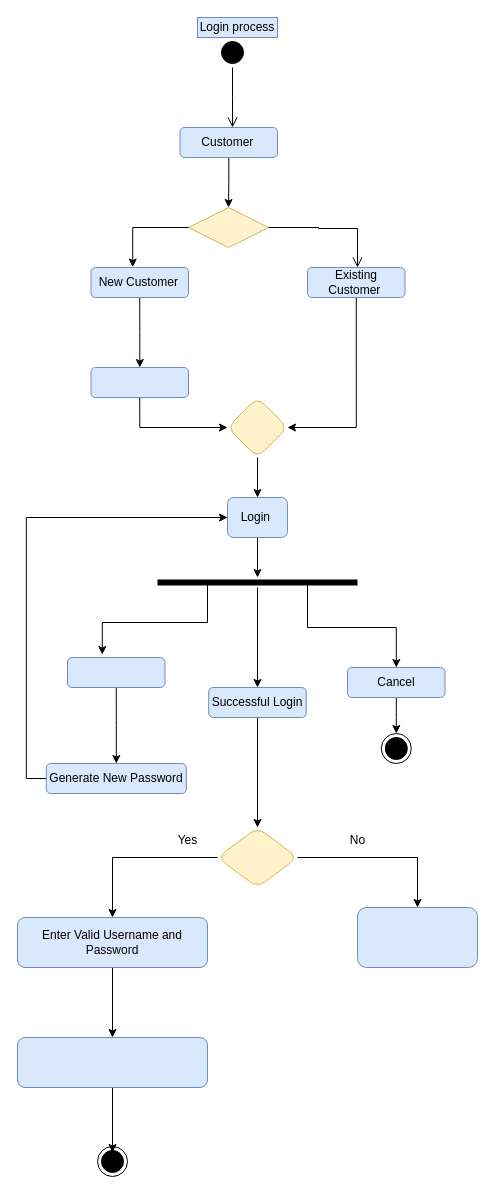
Some shapes in this 495 by 1194 pixel diagram are drawn without their labels. The centre of each missing label's shape, as x and y in pixels:
"Create Account" belongs at point (139, 382).
"Forget Password" belongs at point (115, 672).
"invalid Credentials" belongs at point (417, 937).
"Login Success and View Home Page" belongs at point (112, 1062).
